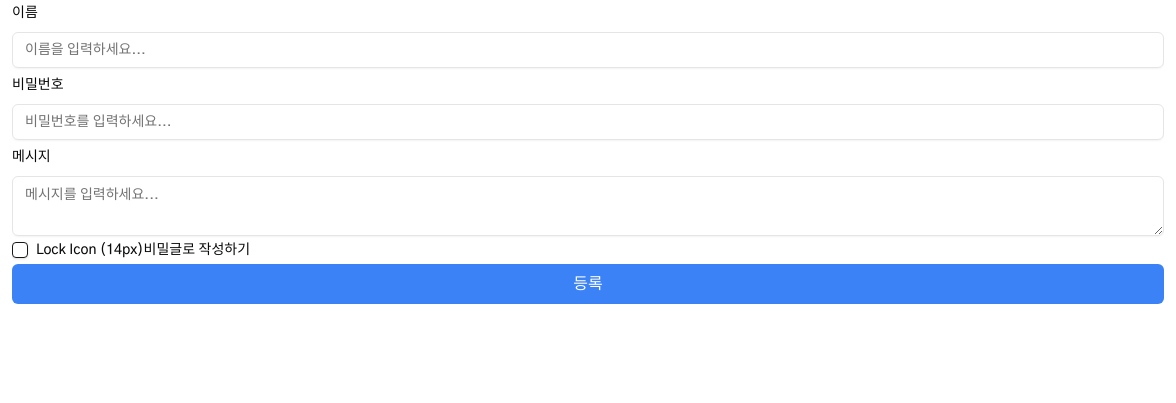
GuestBookForm › validates required fields
Click the button "등록": (588, 284) [12,264,1164,304]
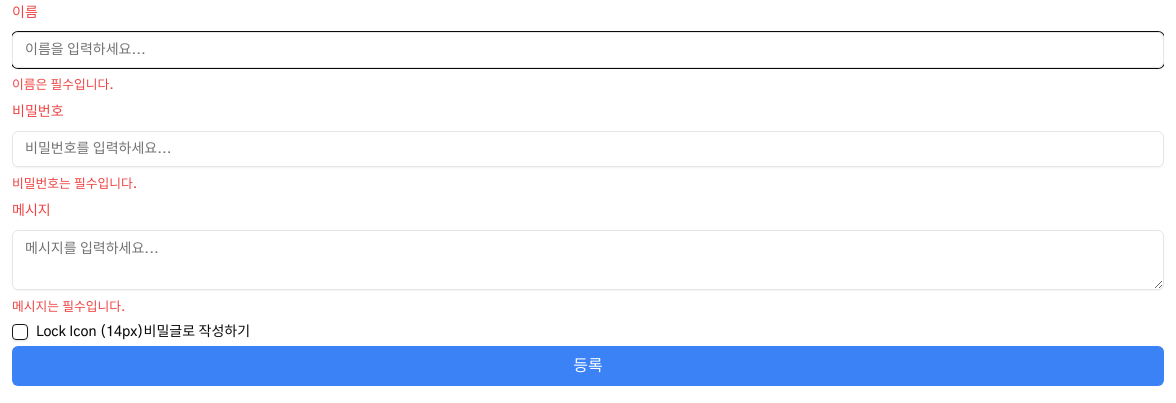
Now the text "이름은 필수입니다." is shown, box [12,79,114,92]
Now the text "비밀번호는 필수입니다." is shown, box [12,178,137,191]
Now the text "메시지는 필수입니다." is shown, box [12,301,126,314]
